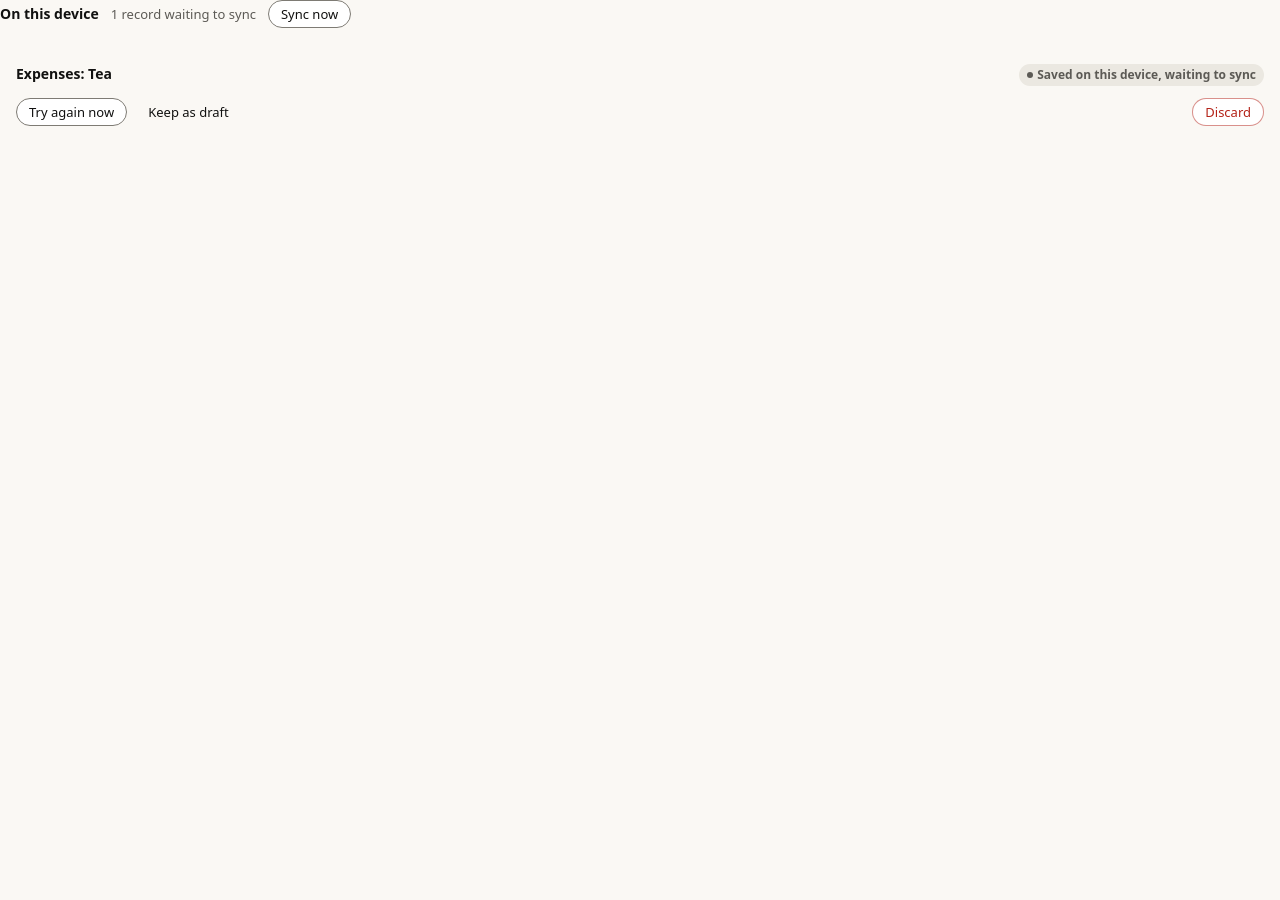
Test: after a send whose answer was lost, the question no longer says the record was never sent
expect the text "Saved on this device, waiting to sync" is shown: met, box [1019,64,1264,86]
Click the button "Discard" at (1228, 112), box [1192,98,1264,126]
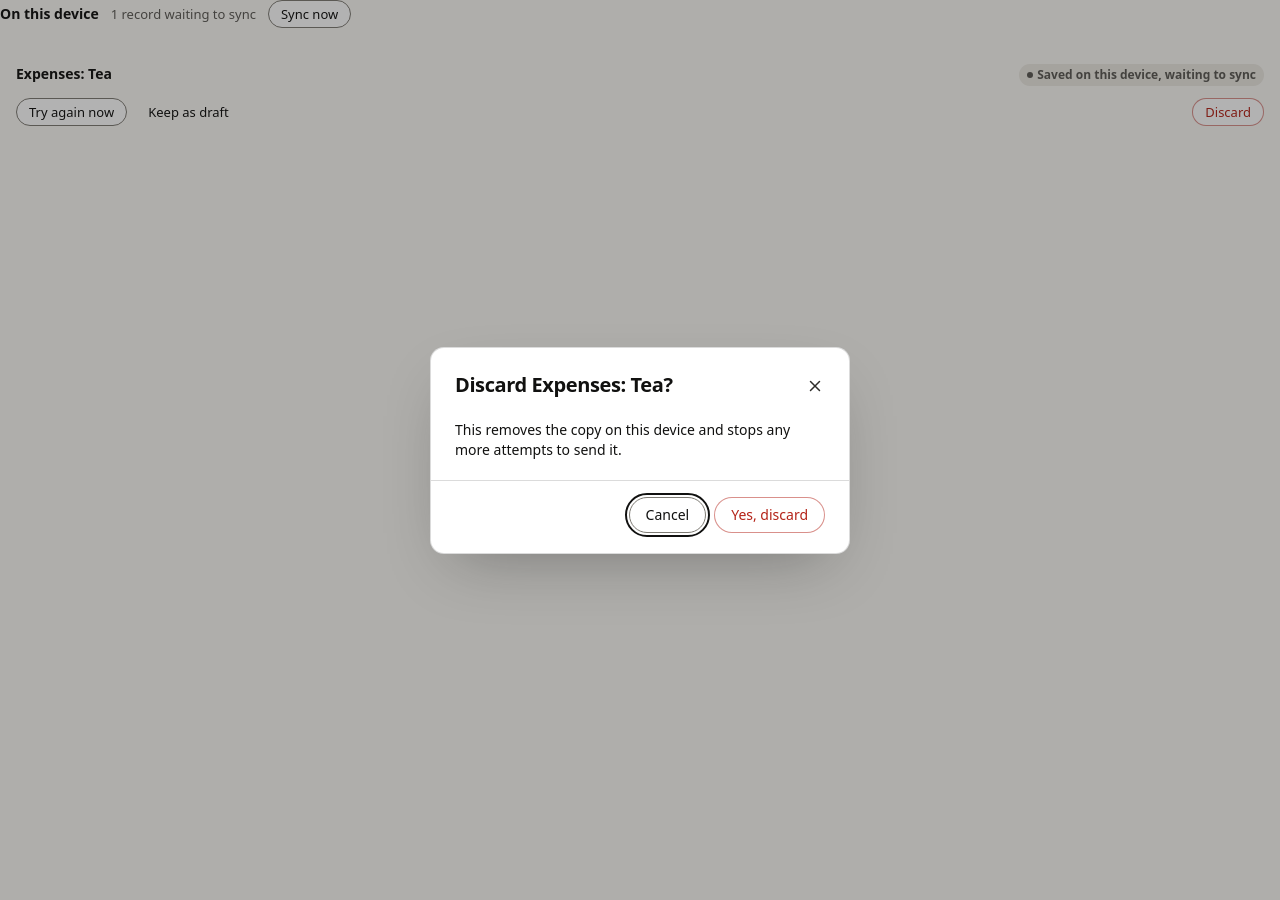
expect the text "stops any more attempts" is shown: met, box [455,420,790,458]
Click the button "Yes, discard" at (770, 514), box [714,496,825,532]
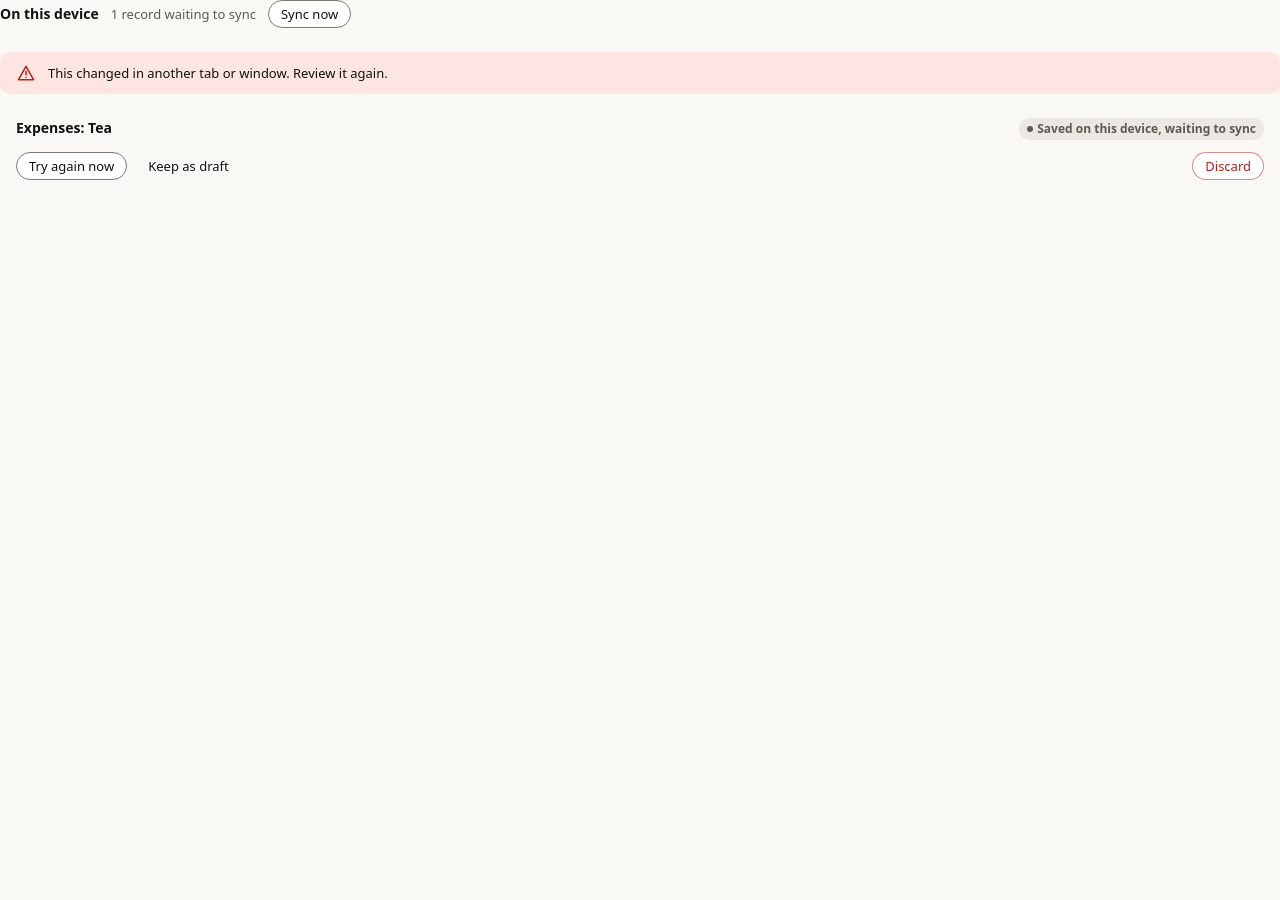
expect the message shows "changed in another tab": met, box [48,64,388,82]
Click the button "Discard" at (1228, 166), box [1192,152,1264,180]
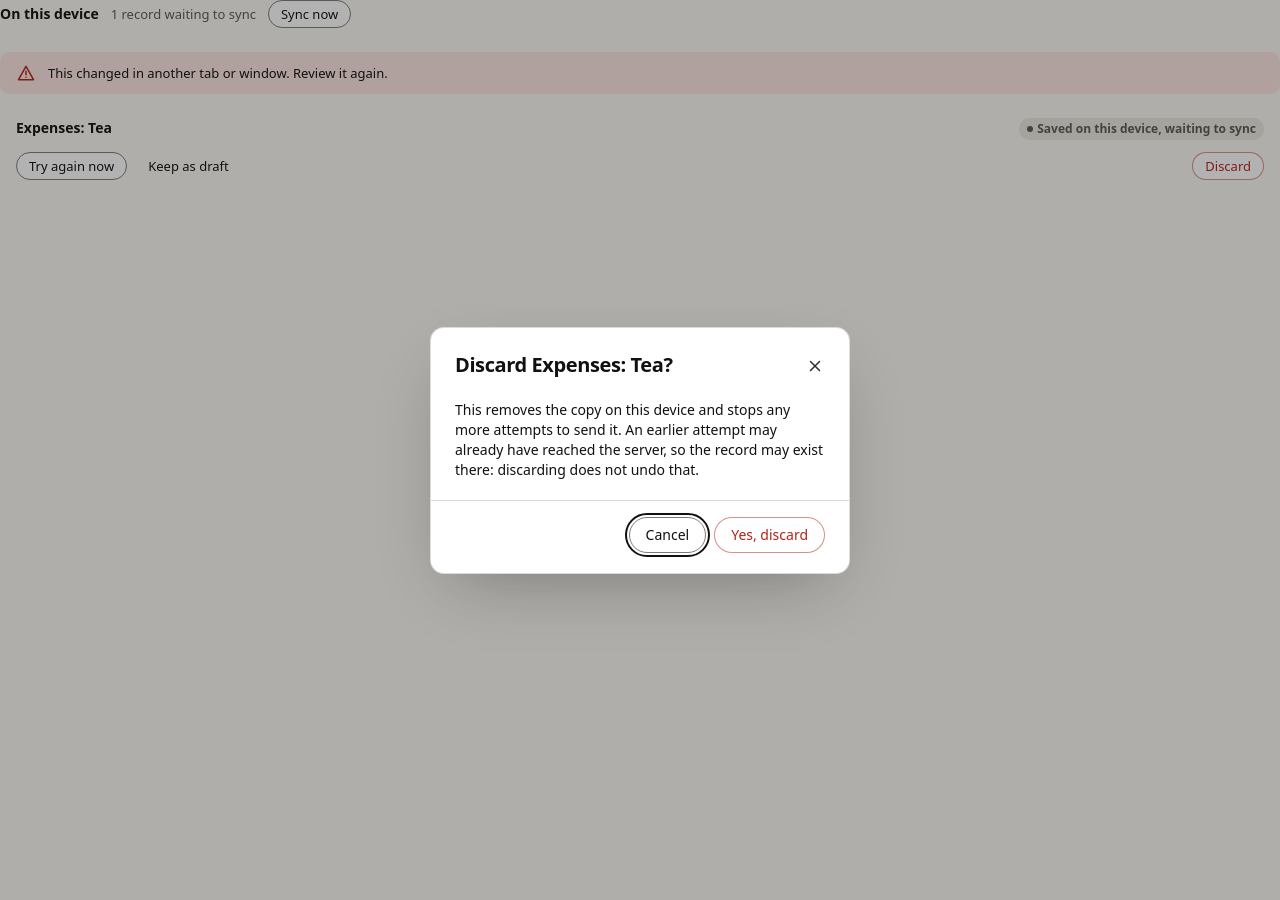
expect the button "Yes, discard" is shown: met, box [714,516,825,552]
expect the text "stops any more attempts" is shown: met, box [455,400,823,478]
